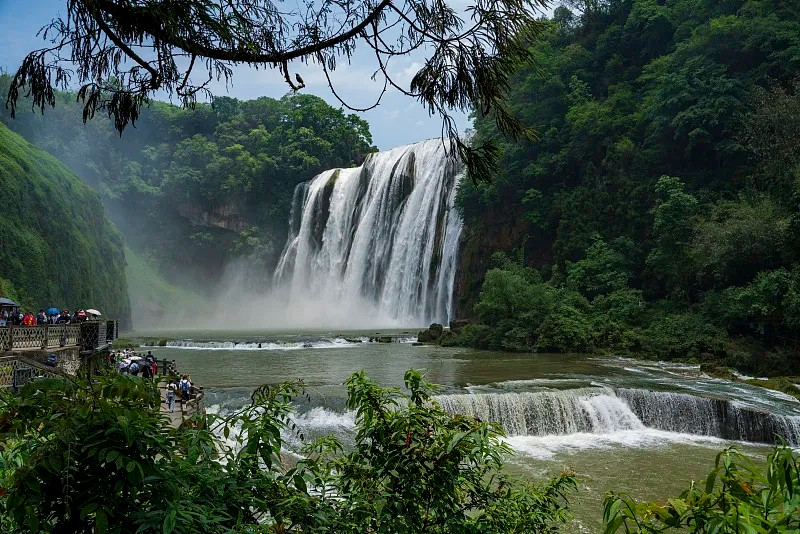Huangguoshu: (269, 137, 465, 329)
